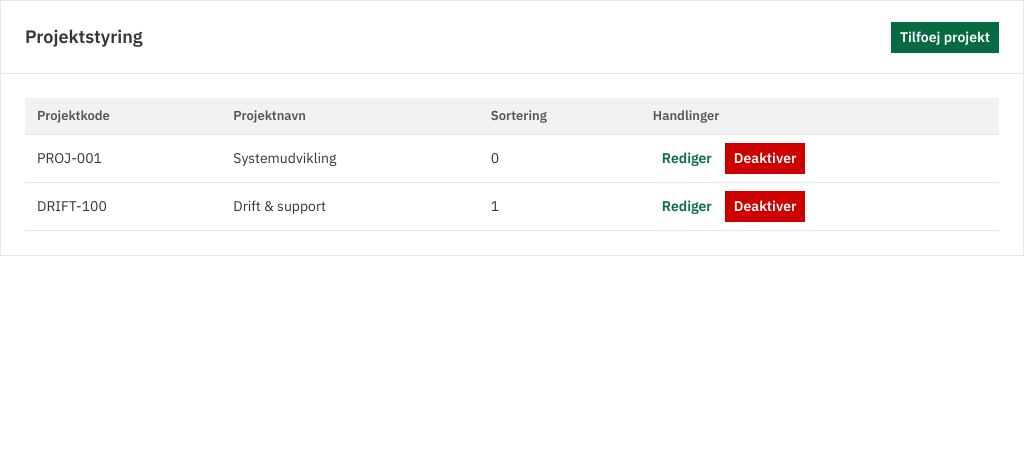
ProjectManagement — the dead-control fix (S91 class) › CREATE mode keeps projectCode editable (unchanged)
Expected: the text "Systemudvikling" is shown, [221,134,479,182]
Click the button "Tilfoej projekt": (945, 37) [891,22,999,52]
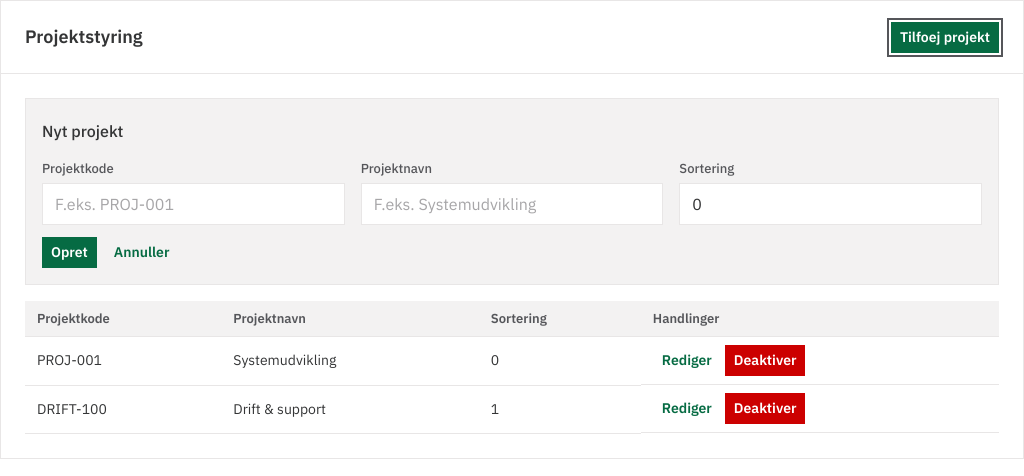
Expected: the heading "Nyt projekt" is shown, [42,121,123,141]
Expected: the field with placeholder "F.eks. PROJ-001" is enabled, [42,182,345,224]
